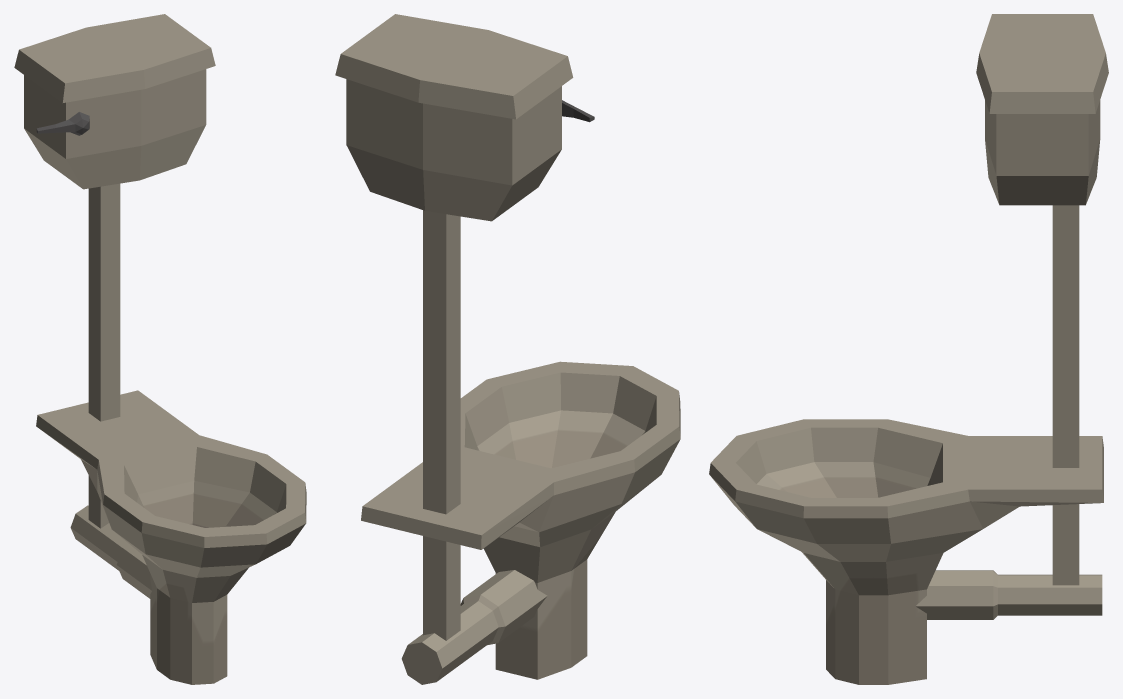
The model's file is SM_Prop_Toilet_01.fbx.
The picture shows the model from 3 angles, left to right: view 1: azimuth 30°, elevation 25°; view 2: azimuth 150°, elevation 25°; view 3: azimuth 270°, elevation 25°; orthographic projection. The views are drawn at different scales.
Parts seen in each view (by area): view 1: SM_Prop_Toilet_01; view 2: SM_Prop_Toilet_01; view 3: SM_Prop_Toilet_01.
Boxes of the visible parts, <box> form: SM_Prop_Toilet_01: <box>14,14,306,684</box>; SM_Prop_Toilet_01: <box>335,14,680,684</box>; SM_Prop_Toilet_01: <box>709,14,1108,684</box>.
Bounding box in the file's own units: 47.68 × 142 × 83.56.
